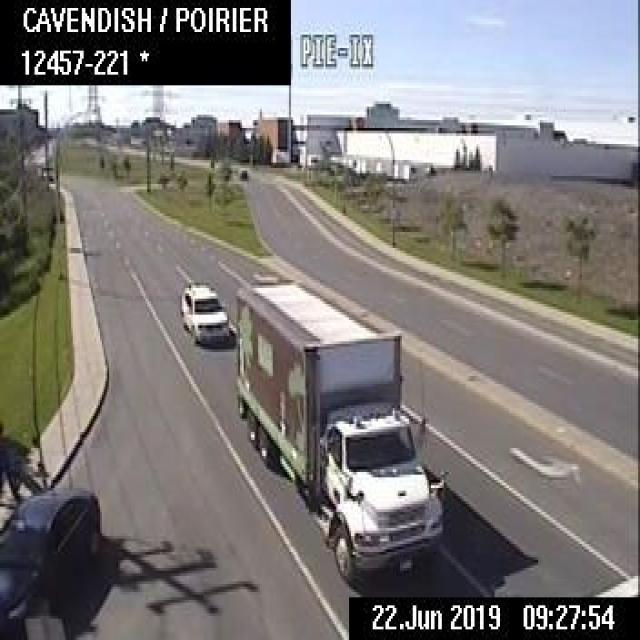vehicle: (234, 280, 446, 587), (0, 483, 102, 637), (179, 281, 229, 344)
